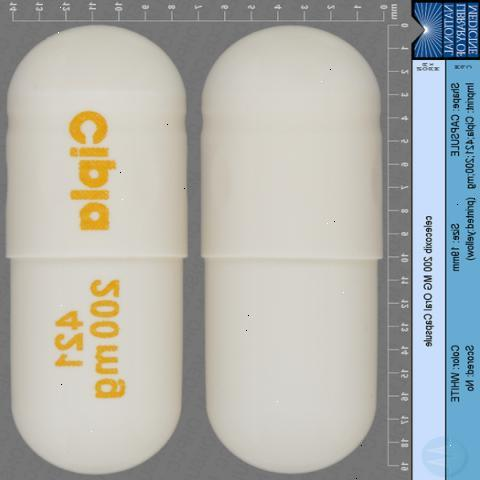Pill: (191, 16, 399, 478), (0, 9, 204, 480)
